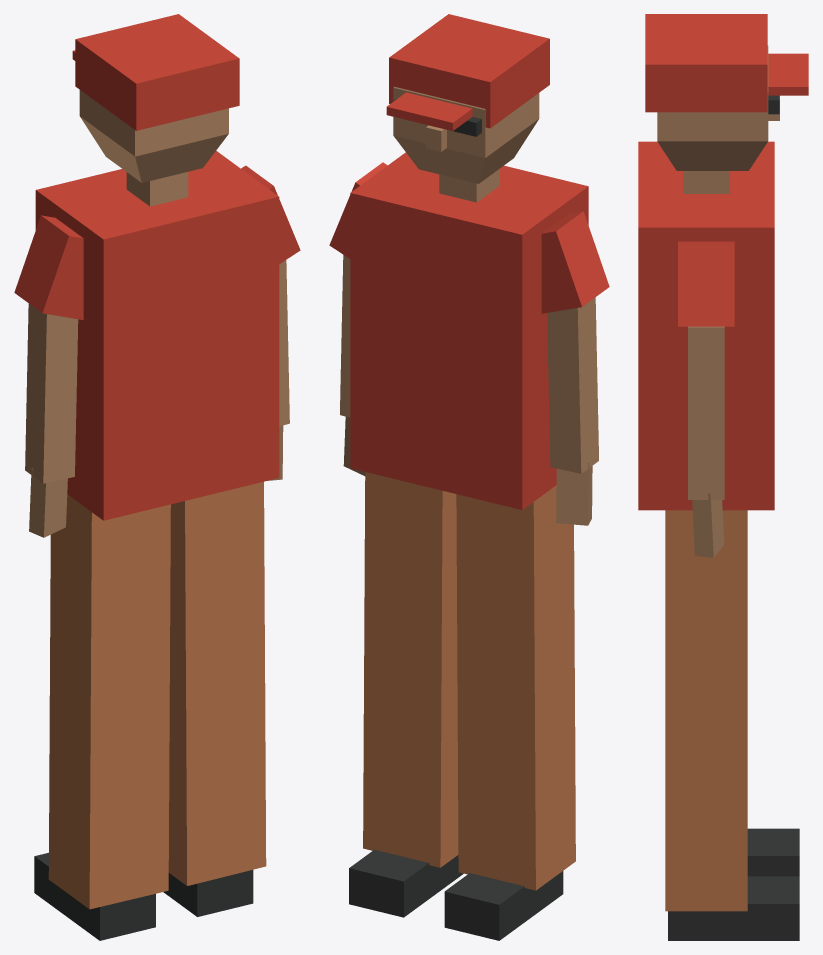
The model's file is pedestrian_13.glb.
3 views of the same model, side by side, from view 1: azimuth 30°, elevation 25°; view 2: azimuth 150°, elevation 25°; view 3: azimuth 270°, elevation 25° (orthographic). The views are drawn at different scales.
Visible parts, largest first — view 1: pedestrian_13 crowd_trousers, pedestrian_13 crowd_shirt, pedestrian_13 crowd_skin, pedestrian_13 crowd_accessory, pedestrian_13 crowd_rubber; view 2: pedestrian_13 crowd_trousers, pedestrian_13 crowd_shirt, pedestrian_13 crowd_skin, pedestrian_13 crowd_accessory, pedestrian_13 crowd_rubber; view 3: pedestrian_13 crowd_shirt, pedestrian_13 crowd_trousers, pedestrian_13 crowd_skin, pedestrian_13 crowd_accessory, pedestrian_13 crowd_rubber.
Part boxes in pixels (box(x1,y1,x2,y2)): pedestrian_13 crowd_trousers: box(48, 481, 266, 909); pedestrian_13 crowd_shirt: box(14, 151, 300, 520); pedestrian_13 crowd_skin: box(25, 90, 289, 537); pedestrian_13 crowd_accessory: box(72, 14, 239, 130); pedestrian_13 crowd_rubber: box(34, 852, 253, 940); pedestrian_13 crowd_trousers: box(363, 472, 575, 890); pedestrian_13 crowd_shirt: box(329, 152, 609, 509); pedestrian_13 crowd_skin: box(340, 86, 598, 525); pedestrian_13 crowd_accessory: box(386, 14, 549, 130); pedestrian_13 crowd_rubber: box(349, 98, 563, 940); pedestrian_13 crowd_shirt: box(638, 141, 774, 510); pedestrian_13 crowd_trousers: box(665, 510, 747, 911); pedestrian_13 crowd_skin: box(657, 45, 779, 557); pedestrian_13 crowd_accessory: box(645, 14, 808, 112); pedestrian_13 crowd_rubber: box(668, 95, 799, 940).
Bounding box in the file's own units: 0.5717 × 1.82 × 0.325.
